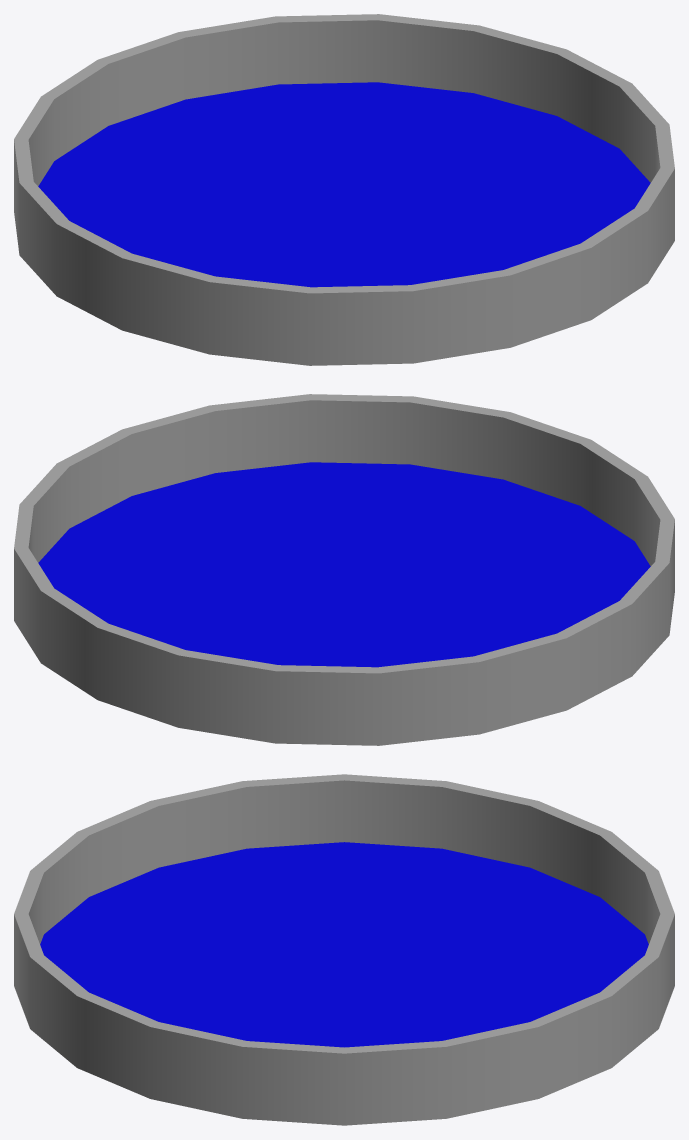
File: Plato de petri.fbx
The picture shows the model from 3 angles, top to bottom: view 1: azimuth 30°, elevation 25°; view 2: azimuth 150°, elevation 25°; view 3: azimuth 270°, elevation 25°; orthographic projection.
Parts seen in each view (by area): view 1: pCylinder1; view 2: pCylinder1; view 3: pCylinder1.
Boxes of the visible parts, bbox=[...] form: pCylinder1: bbox=[14, 14, 674, 365]; pCylinder1: bbox=[14, 394, 674, 745]; pCylinder1: bbox=[14, 774, 674, 1125].
Bounding box in the file's own units: 12.61 × 1.52 × 12.61.
